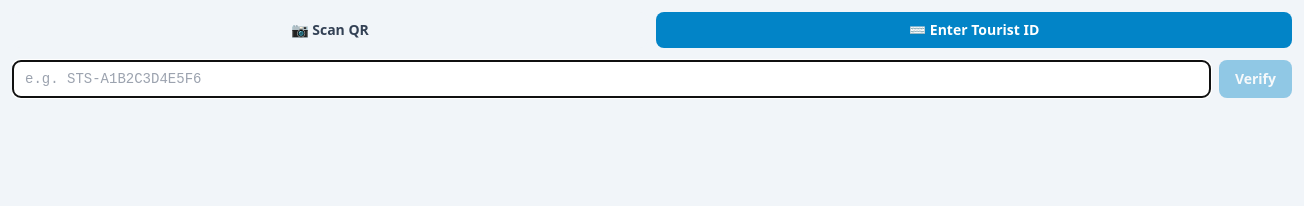
Test: TouristIdScanner › shows invalid state for an unknown ID
Type "STS-NOPE" into the field with placeholder "e.g. STS-A1B2C3D4E5F6". click: {"x": 611, "y": 79}
box: [12,60,1211,98]
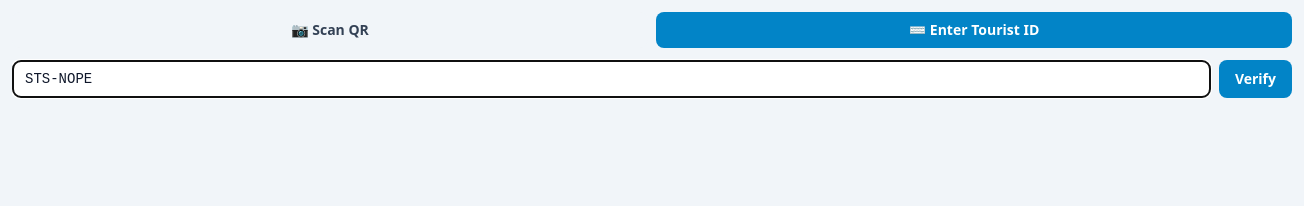
Click the button "Verify". click: {"x": 1255, "y": 79}
box: [1219,60,1292,98]
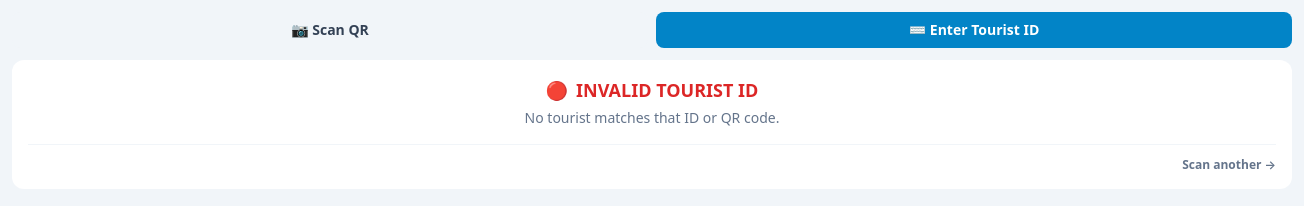
Expected: the text "🔴 INVALID TOURIST ID" is shown, [546,78,758,102]
Expected: the text "No tourist matches that ID or QR code." is shown, [525,108,779,127]
